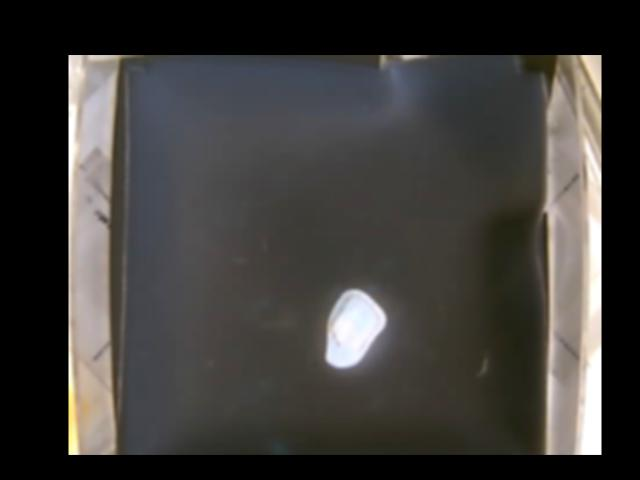Pebble: (324, 287, 389, 366)
